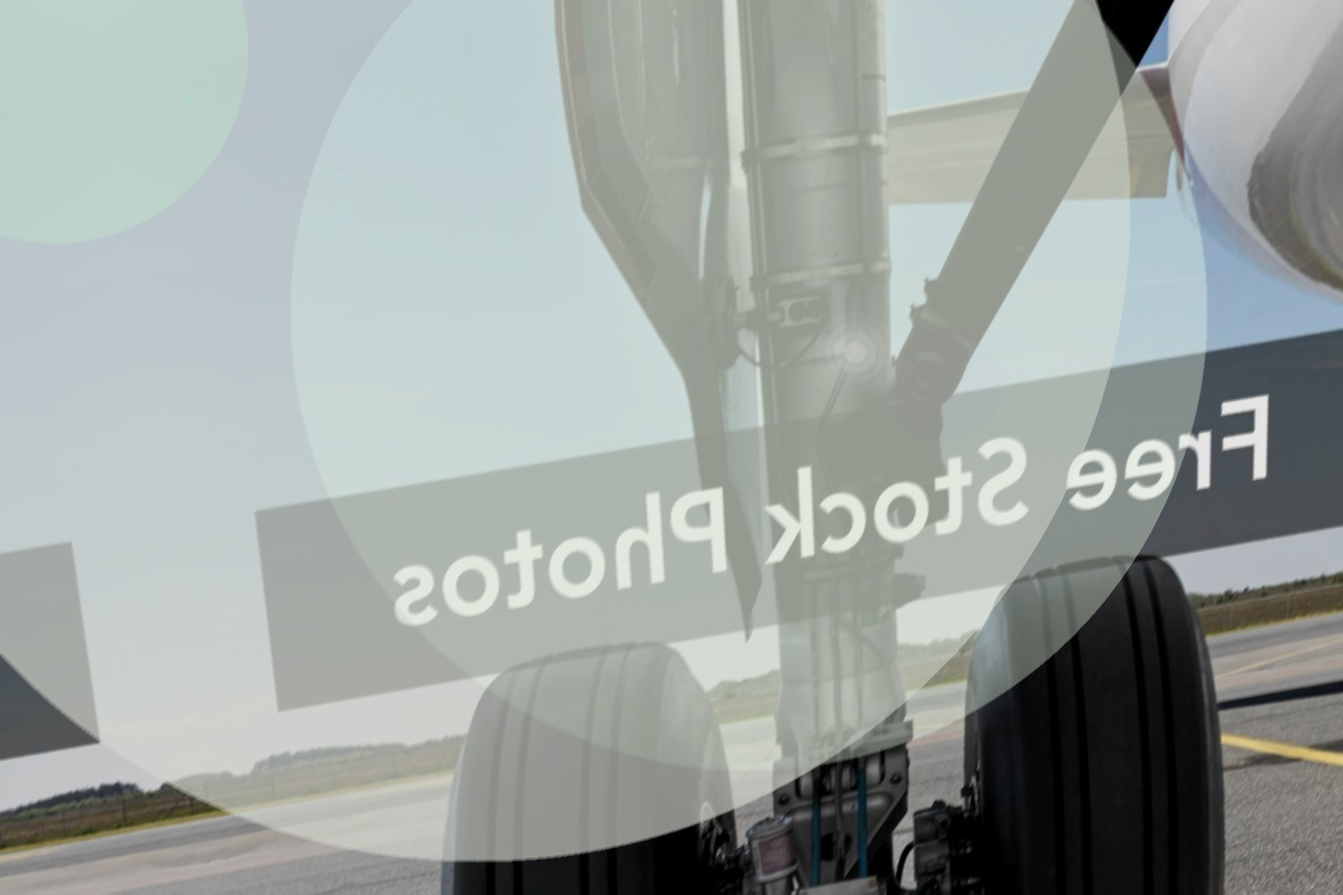wheel: (913, 535, 1292, 895), (389, 625, 778, 895)
